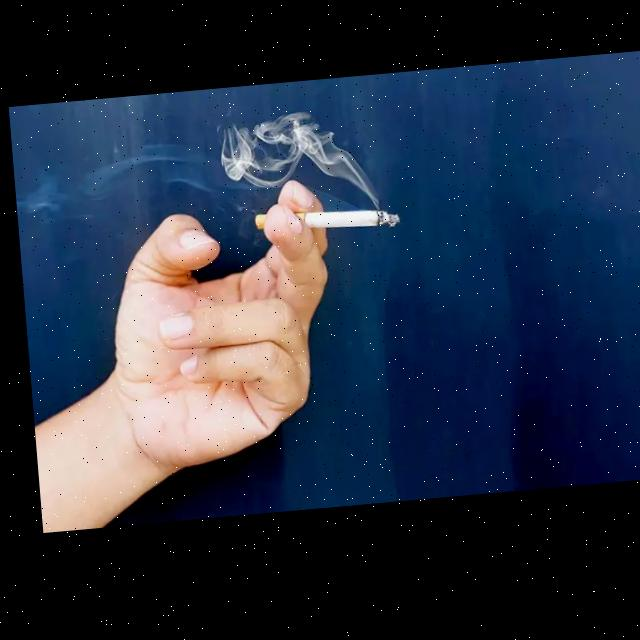cigarette: (252, 209, 396, 243)
